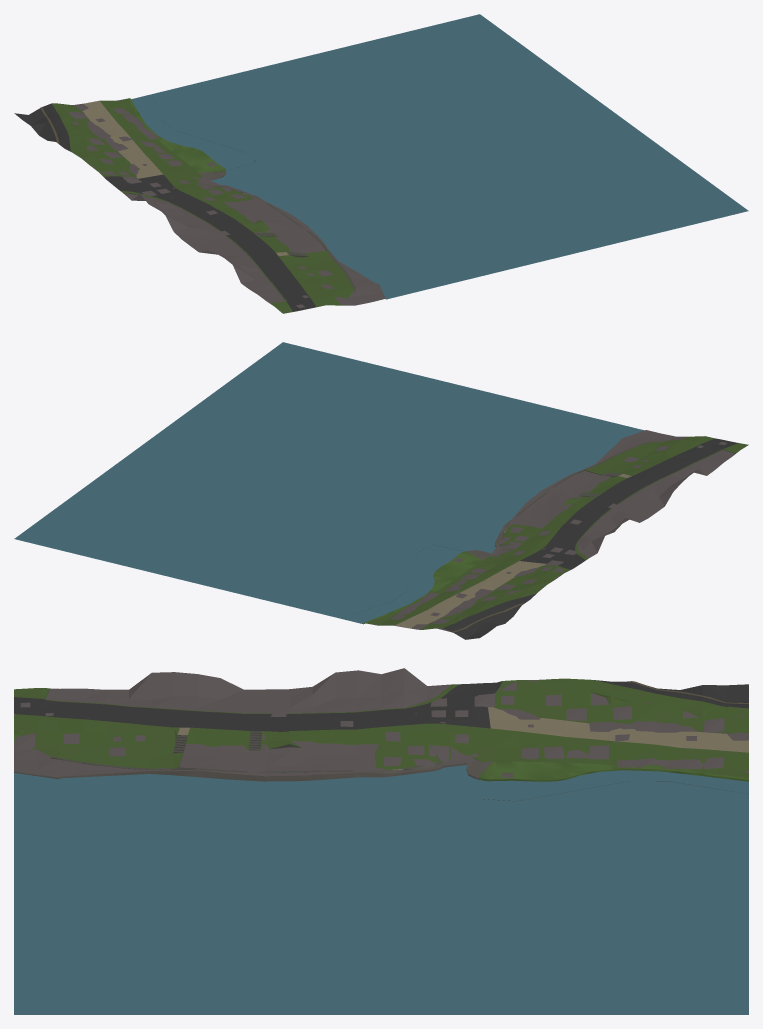
3 views of the same model, one above another, from view 1: azimuth 30°, elevation 25°; view 2: azimuth 150°, elevation 25°; view 3: azimuth 270°, elevation 25° (orthographic). The views are drawn at different scales.
Visible parts, largest first — view 1: c_m09_m12; view 2: c_m09_m12; view 3: c_m09_m12, append:c_m09_m12.
Part boxes in pixels (x1,y1,x2,y2): c_m09_m12: (14, 14, 748, 313); c_m09_m12: (14, 342, 748, 639); c_m09_m12: (14, 668, 748, 1014); append:c_m09_m12: (14, 762, 748, 781).
Bounding box in the file's own units: 128 × 6.96 × 128.
